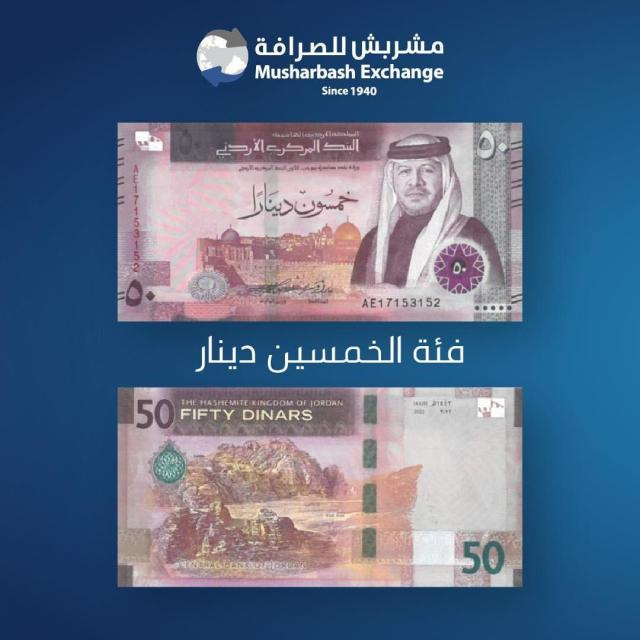50-dinar: (110, 122, 529, 327), (111, 387, 524, 588)
